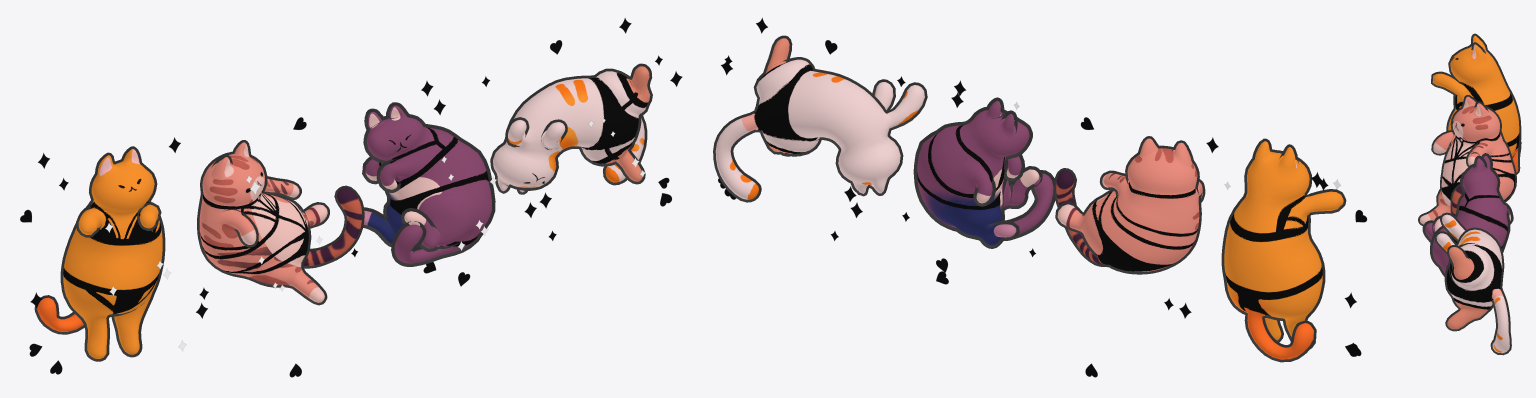
3 views of the same model, side by side, from view 1: azimuth 30°, elevation 25°; view 2: azimuth 150°, elevation 25°; view 3: azimuth 270°, elevation 25° (orthographic). The views are drawn at different scales.
Parts seen in each view (by area): view 1: polySurface11, polySurface8, polySurface4, polySurface10, polySurface7, polySurface3, polySurface5, polySurface9; view 2: polySurface11, polySurface10, polySurface4, polySurface8, polySurface7, polySurface9, polySurface5, polySurface3; view 3: polySurface10, polySurface4, polySurface11, polySurface8, polySurface9, polySurface7, polySurface3, polySurface5.
Boxes of the visible parts, <box> form: polySurface11: <box>37,149,162,358</box>; polySurface8: <box>364,105,491,263</box>; polySurface4: <box>199,142,362,302</box>; polySurface10: <box>493,66,650,192</box>; polySurface7: <box>362,102,495,266</box>; polySurface3: <box>197,140,364,305</box>; polySurface5: <box>34,146,165,361</box>; polySurface9: <box>490,63,652,194</box>; polySurface11: <box>1224,141,1343,359</box>; polySurface10: <box>715,38,924,199</box>; polySurface4: <box>1056,138,1202,271</box>; polySurface8: <box>917,100,1053,245</box>; polySurface7: <box>913,97,1055,248</box>; polySurface9: <box>713,35,927,202</box>; polySurface5: <box>1221,138,1346,362</box>; polySurface3: <box>1053,136,1205,274</box>; polySurface10: <box>1436,214,1509,353</box>; polySurface4: <box>1420,96,1515,224</box>; polySurface11: <box>1432,35,1519,172</box>; polySurface8: <box>1425,155,1510,273</box>; polySurface9: <box>1434,212,1511,355</box>; polySurface7: <box>1422,153,1513,276</box>; polySurface3: <box>1418,95,1516,225</box>; polySurface5: <box>1431,33,1521,174</box>.
Bounding box in the file's own units: 6.04 × 2.49 × 1.27.
6 materials, 5 textured.
